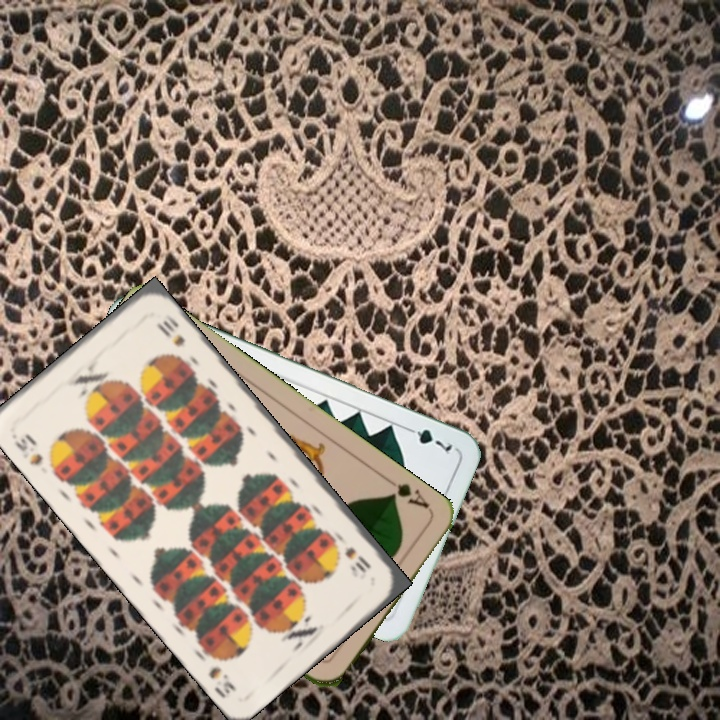G7: (400, 422, 456, 457)
GA: (381, 474, 432, 513)
S10: (10, 429, 46, 468), (340, 542, 374, 576)
